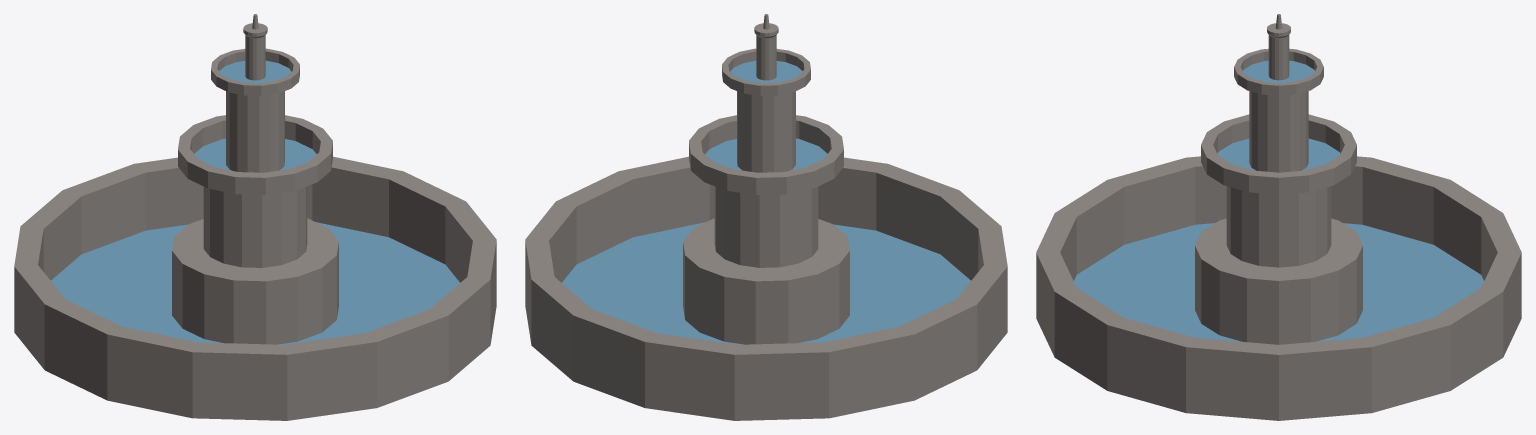
File: Fountain_012.fbx
The picture shows the model from 3 angles, left to right: view 1: azimuth 30°, elevation 25°; view 2: azimuth 150°, elevation 25°; view 3: azimuth 270°, elevation 25°; orthographic projection.
Parts seen in each view (by area): view 1: Fountain_01; view 2: Fountain_01; view 3: Fountain_01.
Part boxes in pixels (box(x1,y1,x2,y2)): Fountain_01: box(14, 14, 496, 420); Fountain_01: box(525, 14, 1007, 420); Fountain_01: box(1036, 14, 1521, 420).
Size of the model in its own units: 595 by 411 by 595.
